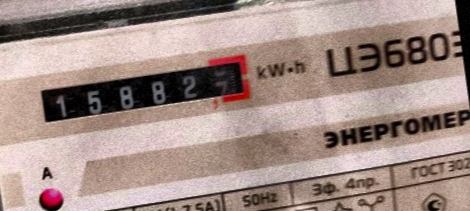1: (52, 90, 69, 120)
2: (178, 73, 199, 101)
5: (83, 87, 104, 119)
7: (212, 78, 228, 96)
8: (115, 83, 135, 113), (148, 77, 167, 107)
screen: (26, 45, 258, 136)
